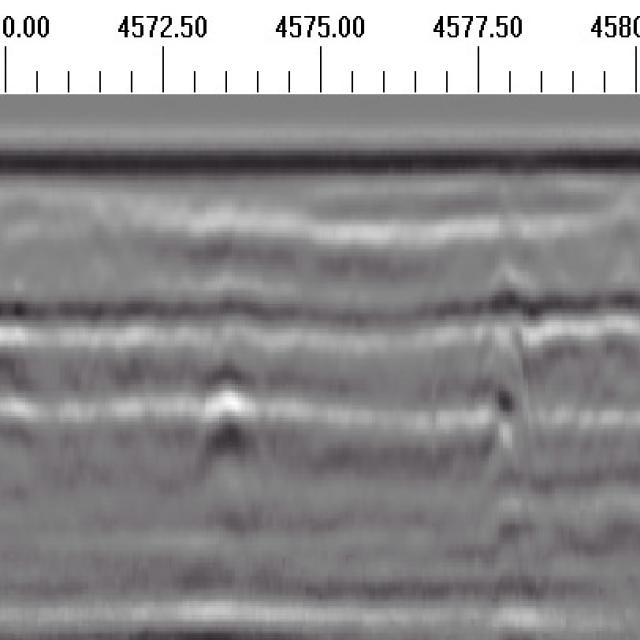loose: (481, 263, 640, 446)
